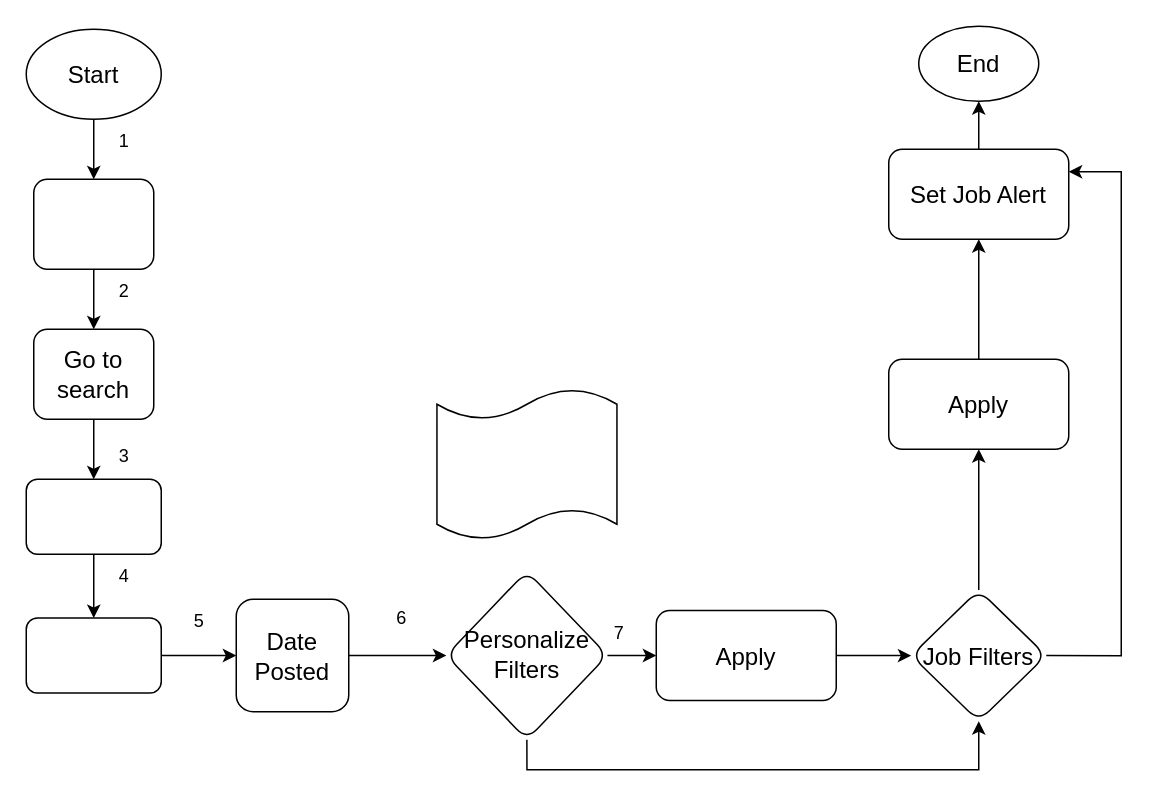
Image size: 1160x809. Some labels were removed from this diagram. Each missing label, with the box of its shape:
Choose from dropdown any one of option: (435, 388, 617, 539)
Click on job button: (25, 616, 161, 693)
Give job name: (25, 478, 161, 554)
Logged in: (32, 178, 154, 269)
